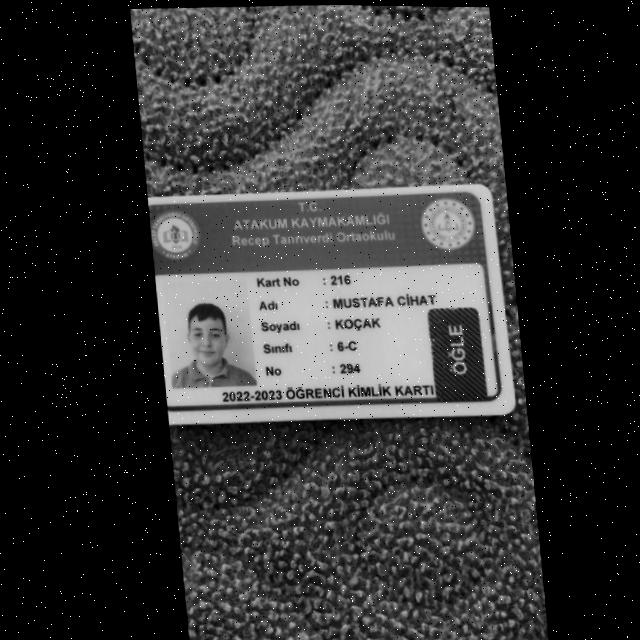card: (148, 185, 515, 423)
